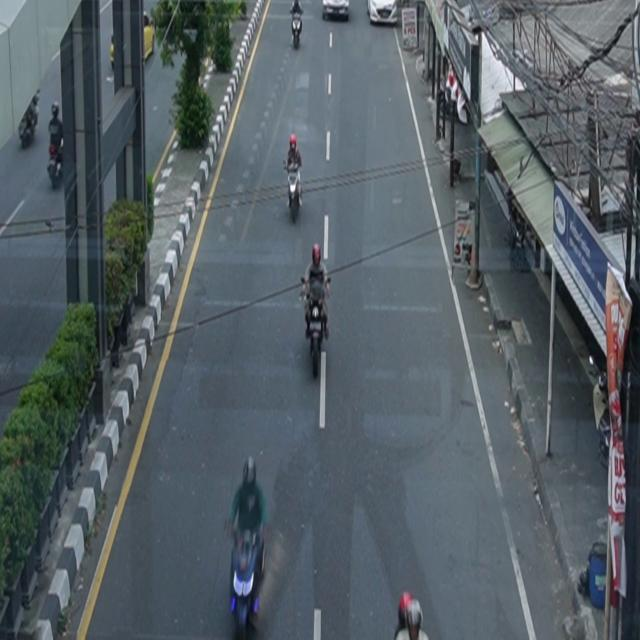car: (368, 1, 399, 26), (323, 1, 350, 22)
